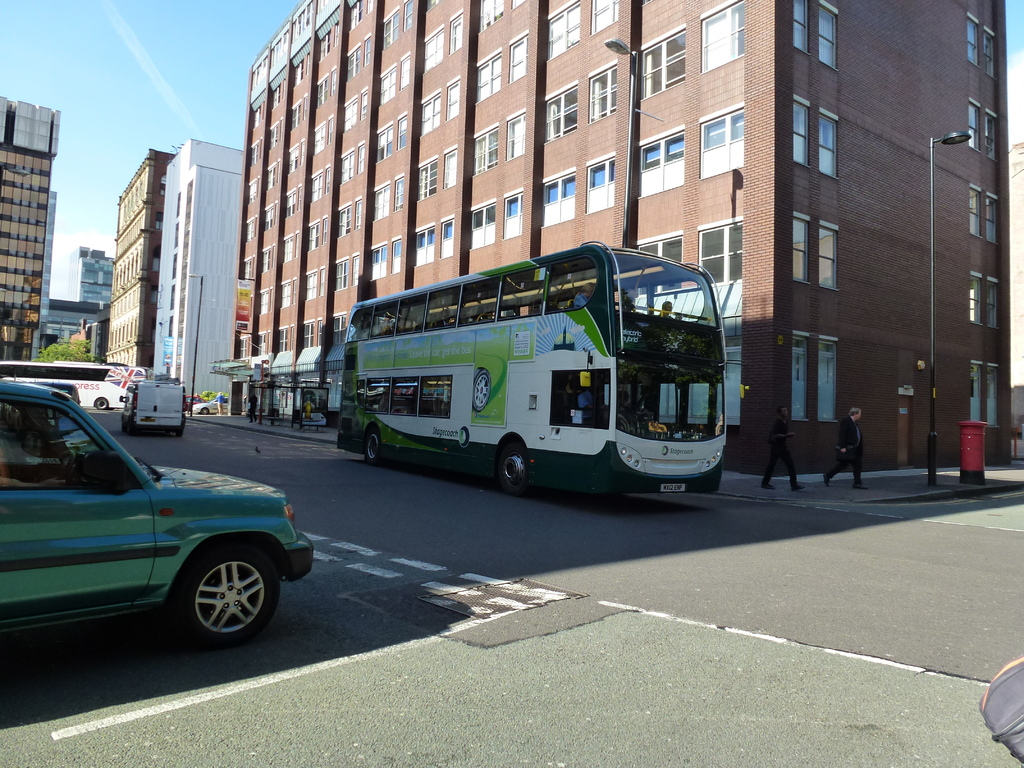Car: (0, 381, 318, 649)
